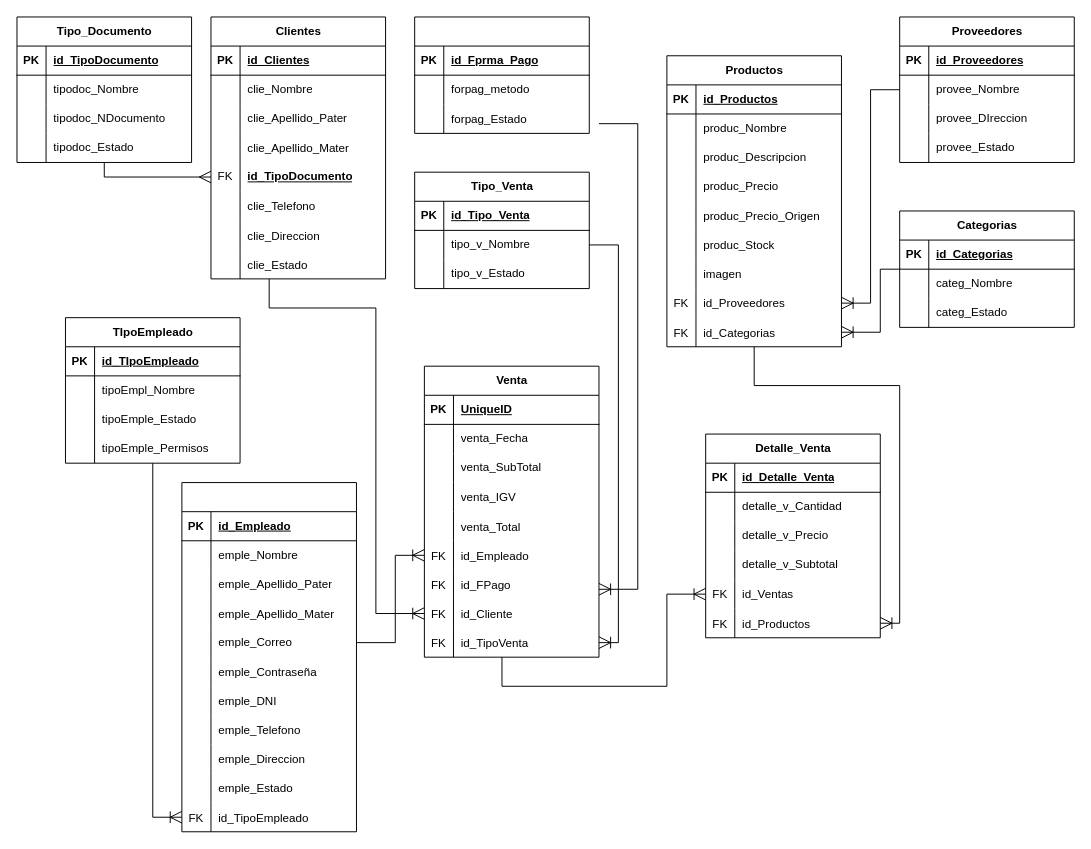
Image size: 1091x849. Some labels were removed from this diagram. Each missing label, with the box of its shape:
Empleados: (181, 482, 356, 832)
Forma_Pago: (414, 16, 589, 133)
